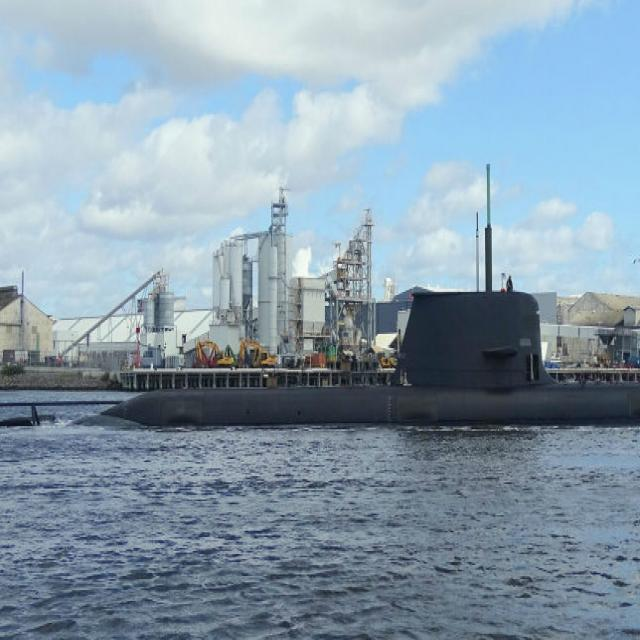submarine: (4, 153, 640, 427)
